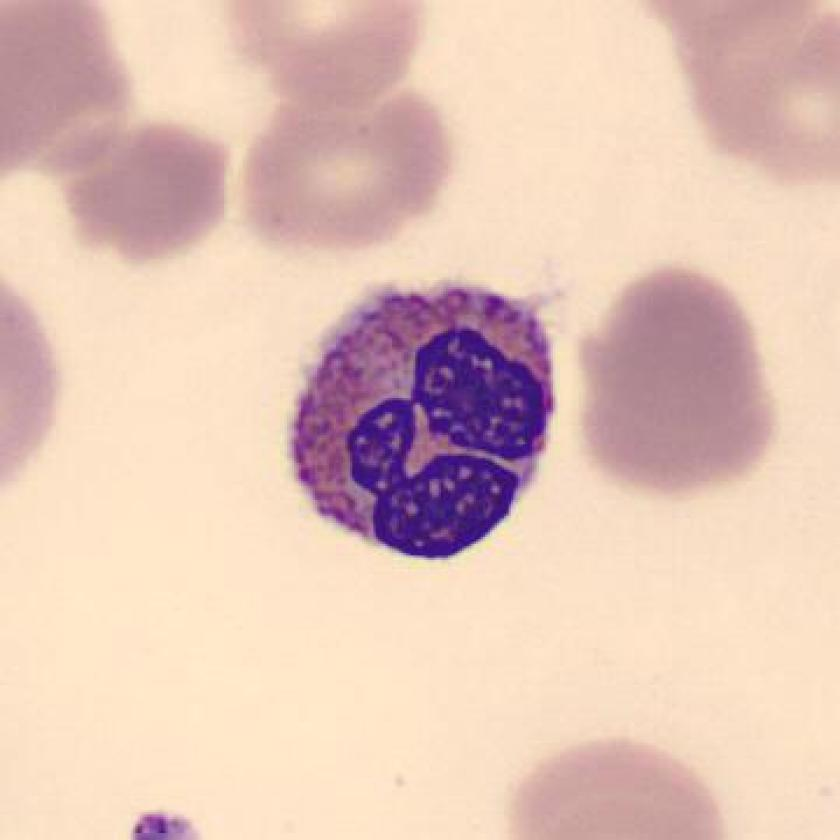eosinophil: (274, 260, 570, 570)
